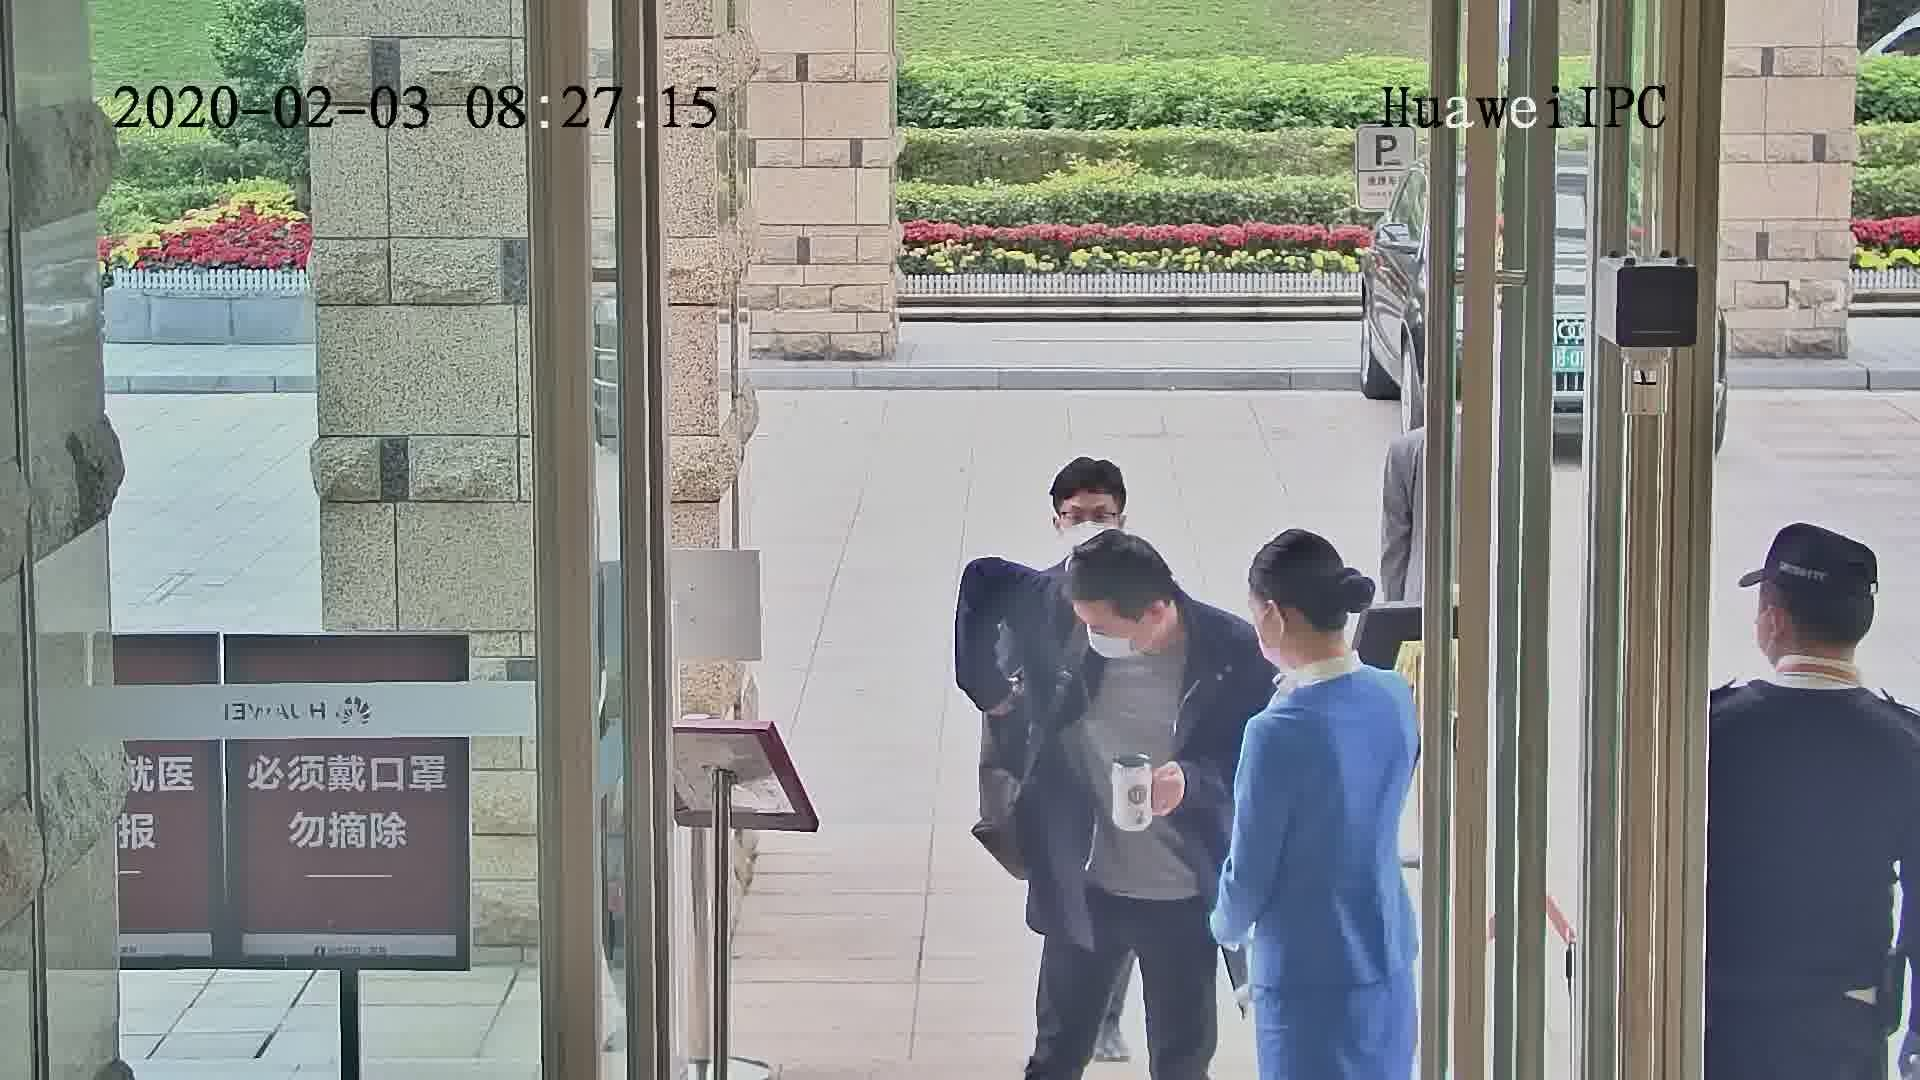face: (1076, 595, 1154, 662), (1054, 495, 1127, 546)
mask: (1087, 622, 1145, 660), (1051, 520, 1118, 549)
person: (1708, 517, 1916, 787), (1236, 521, 1417, 773), (1045, 524, 1257, 704)
